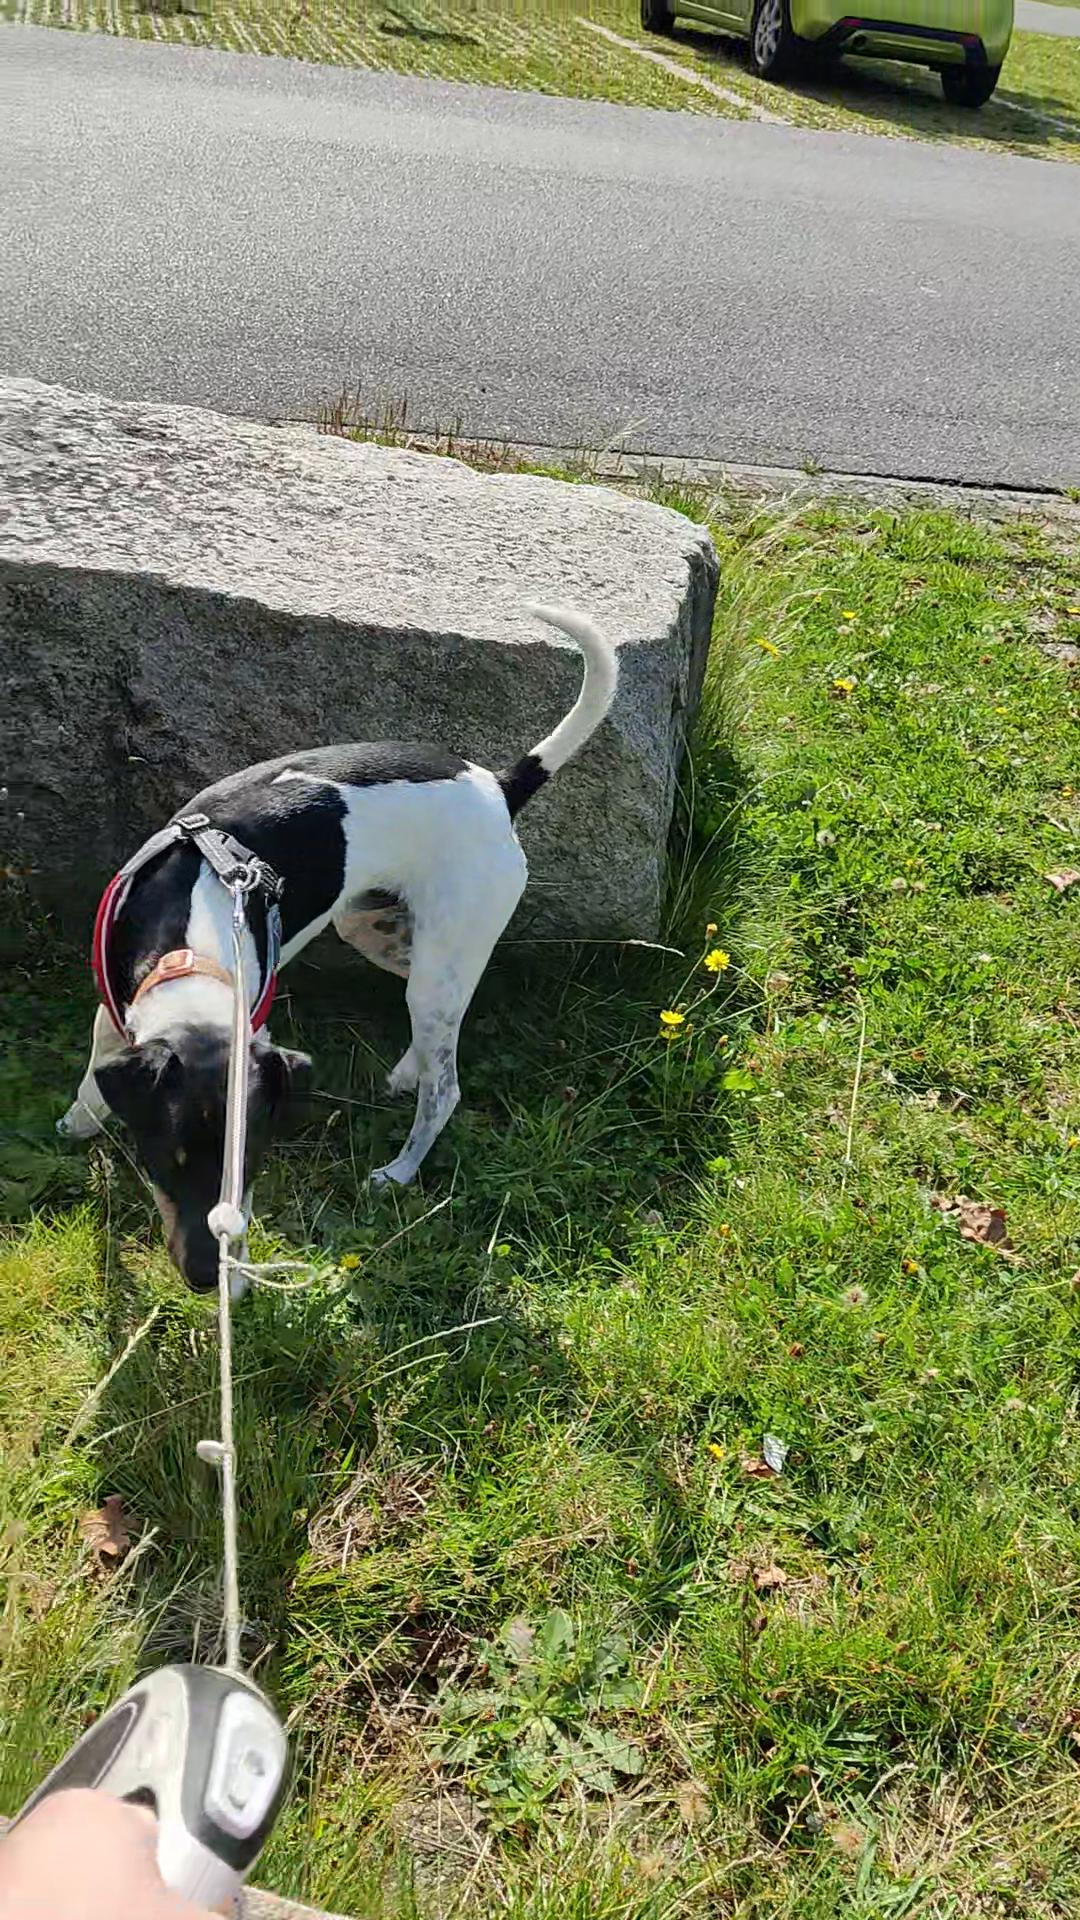Dog: (49, 593, 630, 1299)
